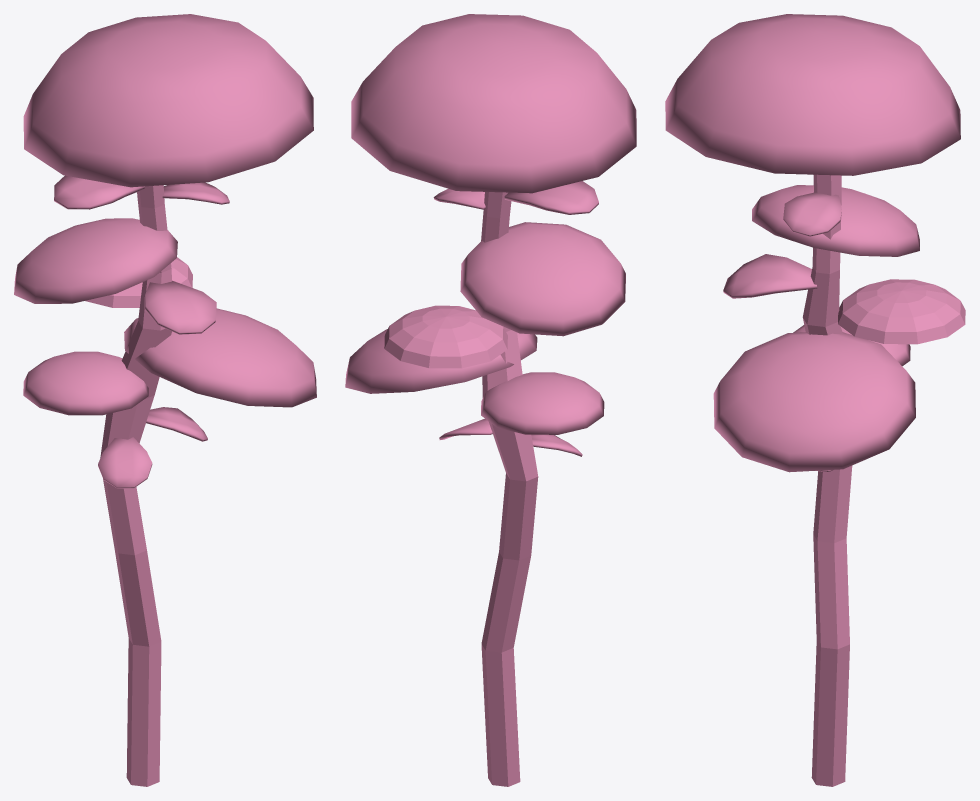
Rendered from tree_02.fbx.
3 views of the same model, side by side, from view 1: azimuth 30°, elevation 25°; view 2: azimuth 150°, elevation 25°; view 3: azimuth 270°, elevation 25° (orthographic). The views are drawn at different scales.
Parts seen in each view (by area): view 1: Sphere.005; view 2: Sphere.005; view 3: Sphere.005.
Boxes of the visible parts, left/top/right/bottom form: Sphere.005: left=14, top=14, right=316, bottom=786; Sphere.005: left=345, top=14, right=636, bottom=786; Sphere.005: left=665, top=14, right=965, bottom=786.
Size of the model in its own units: 188 by 496 by 179.
